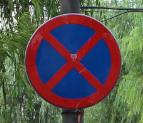No Parking: (24, 18, 120, 108)
